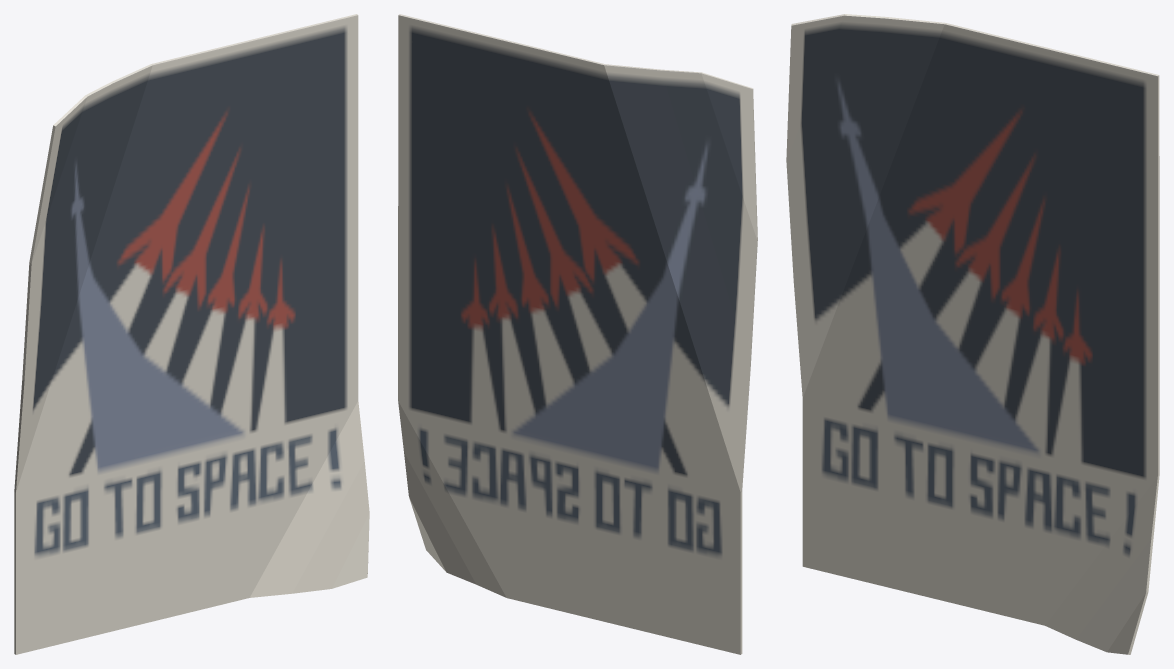
The model's file is Poster E.fbx.
The picture shows the model from 3 angles, left to right: view 1: azimuth 30°, elevation 25°; view 2: azimuth 150°, elevation 25°; view 3: azimuth 330°, elevation 25°; orthographic projection. The views are drawn at different scales.
Parts seen in each view (by area): view 1: Poster E; view 2: Poster E; view 3: Poster E.
Boxes of the visible parts, x1,y1,x2,y2 form: Poster E: (14,14,369,654); Poster E: (398,14,757,654); Poster E: (786,14,1159,654).
Size of the model in its own units: 129 by 200 by 17.5.
